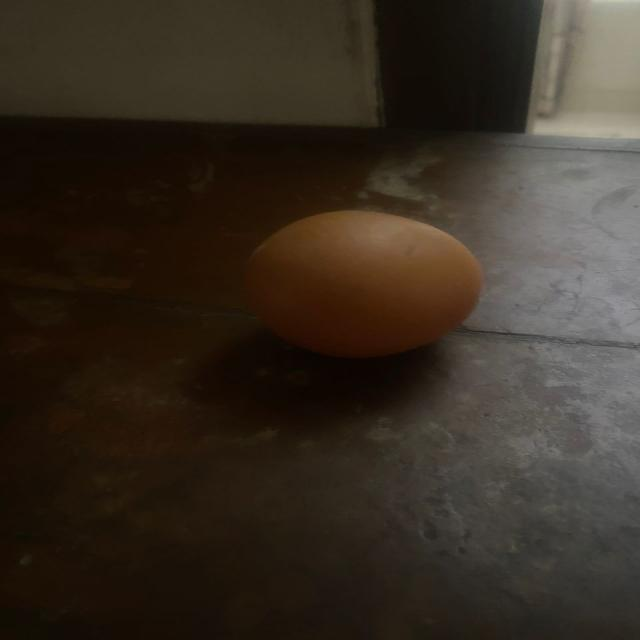egg: (233, 203, 492, 368)
